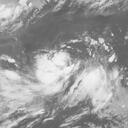cyclone: (34, 50, 71, 93)
